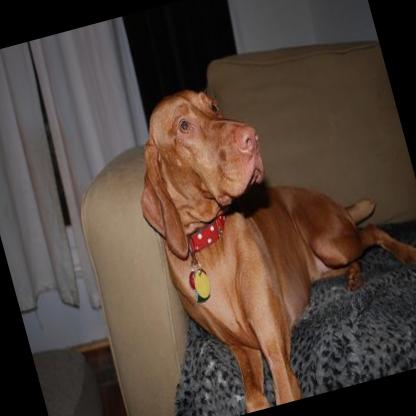vizsla: (112, 33, 416, 416)
